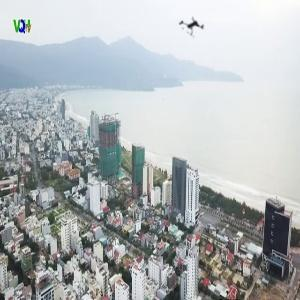drone: (168, 3, 217, 52)
